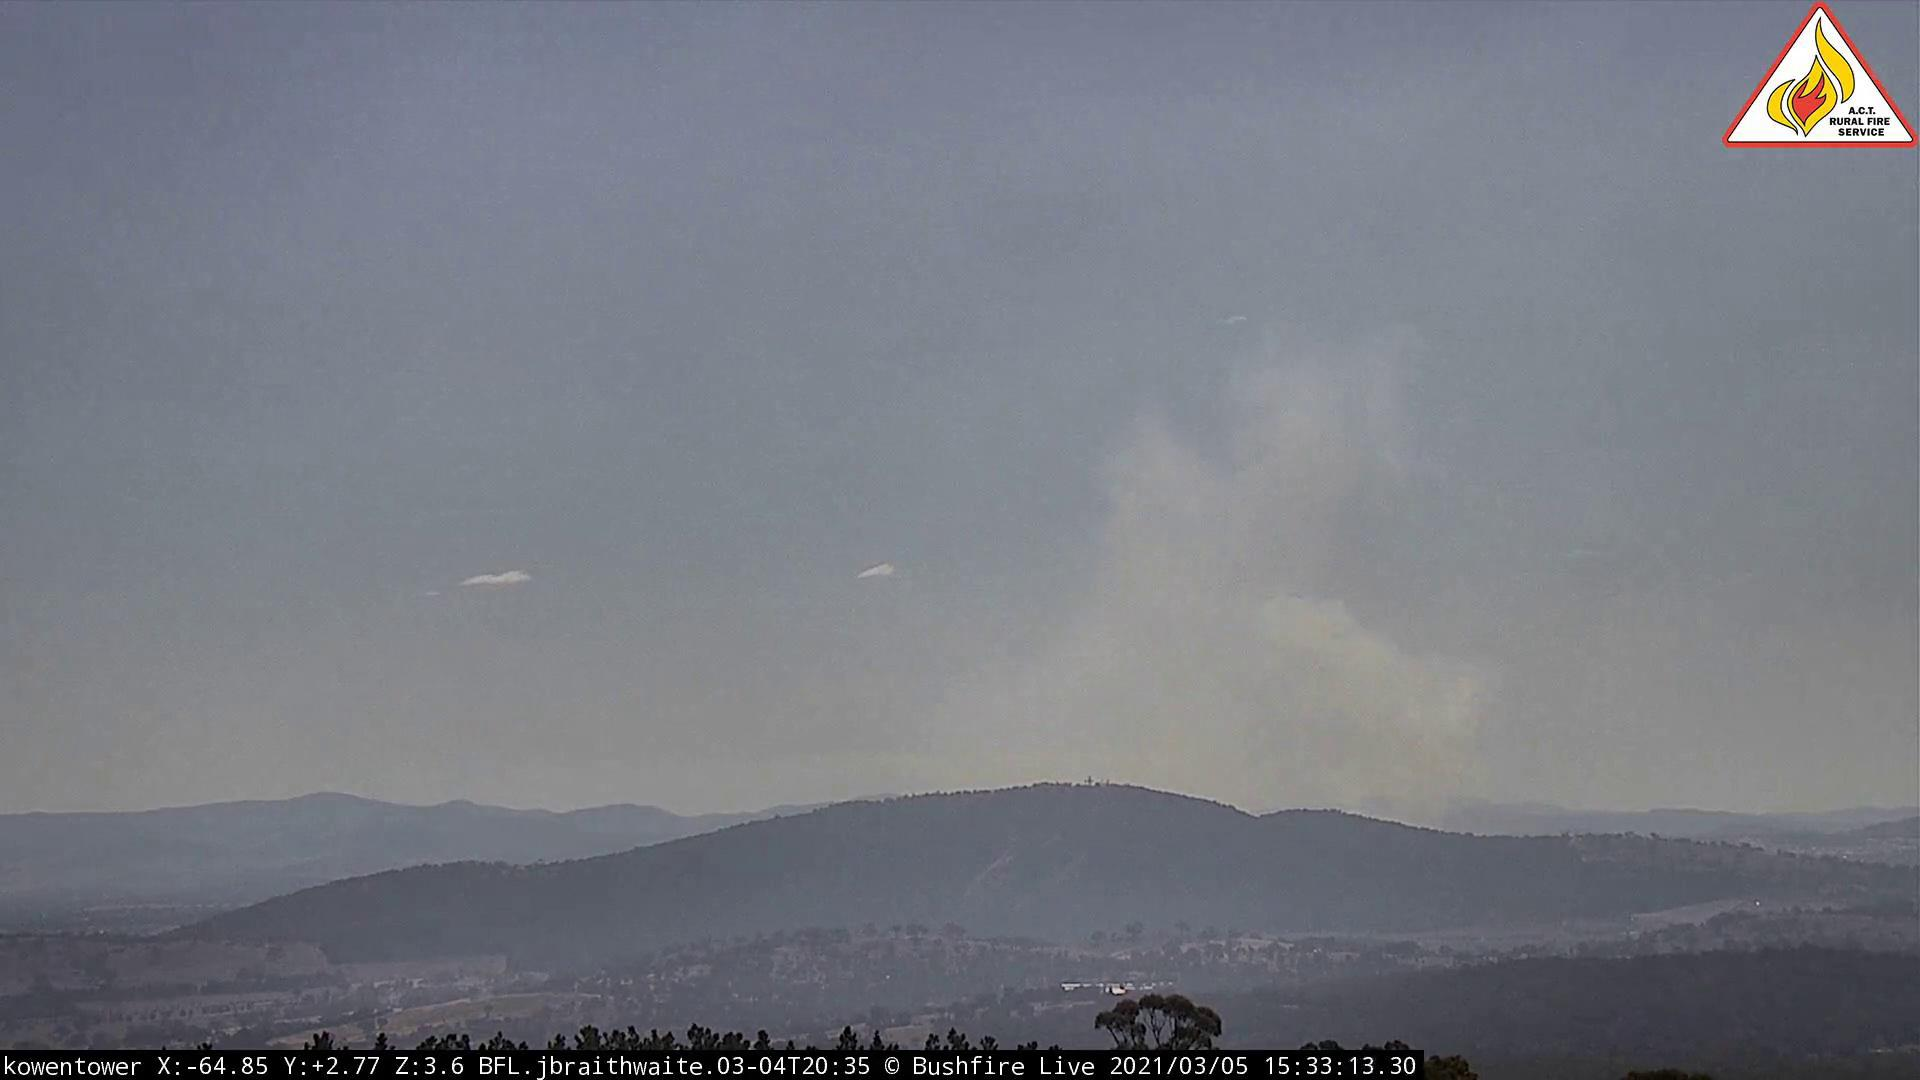instance_salient_object: (957, 323, 1538, 852)
